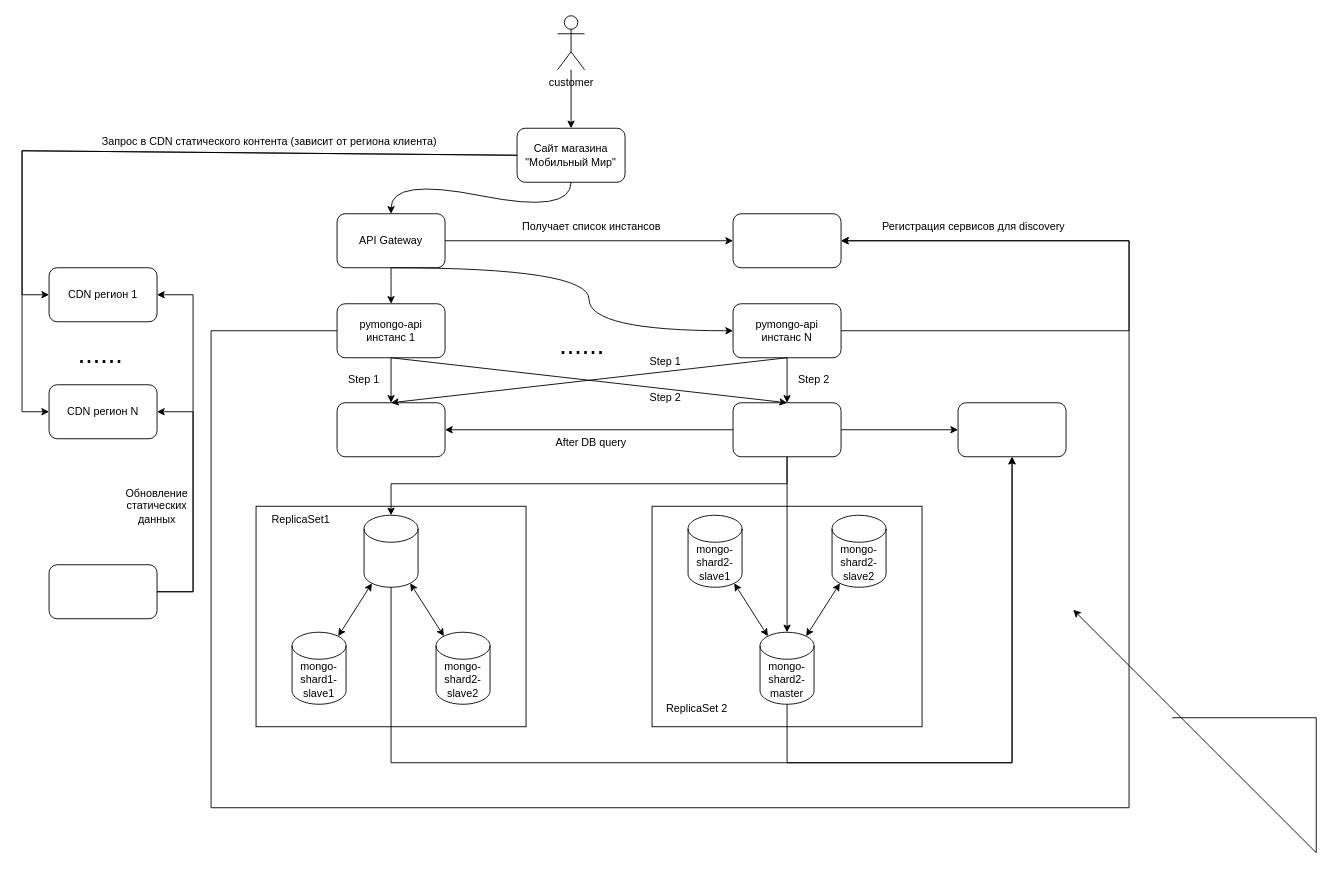
This 1339x876 diagram has some shape labels left out. The shapes that lost their labels are listed below. From the top down, each one's centre as x and y in pixels, then its label:
the point at 786,240: Consul
the point at 390,429: redis
the point at 786,429: router
the point at 1011,429: config-server
the point at 390,550: mongo-shard1-master
the point at 102,591: Основной сервер статических данных
